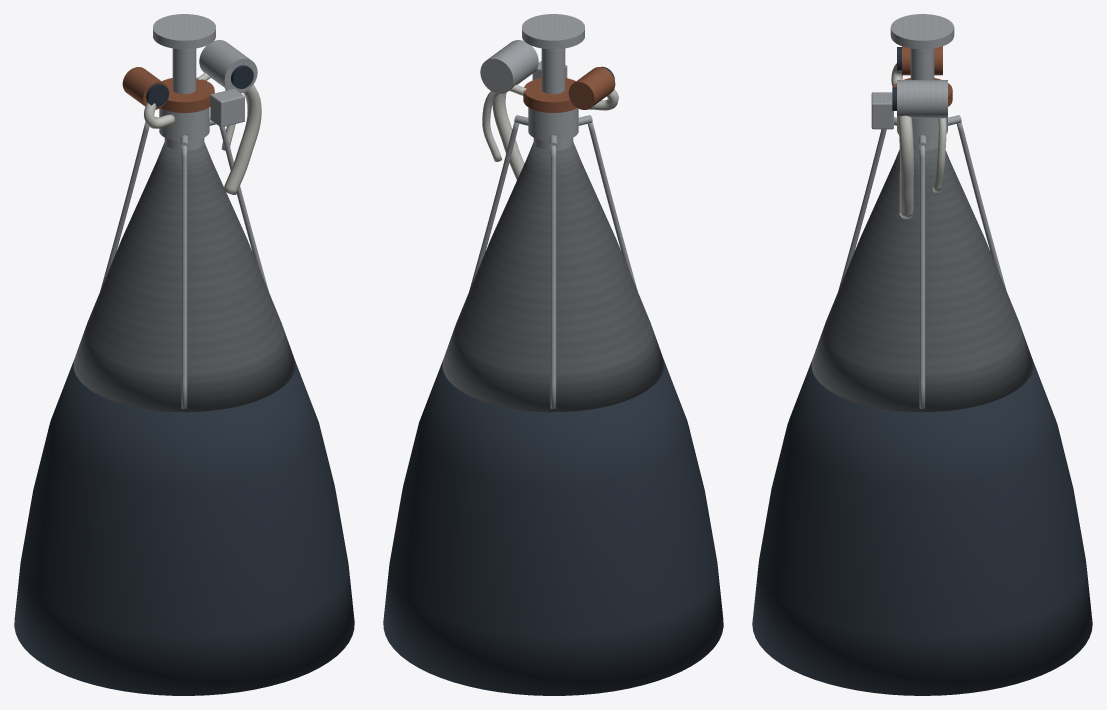
3 views of the same model, side by side, from view 1: azimuth 30°, elevation 25°; view 2: azimuth 150°, elevation 25°; view 3: azimuth 270°, elevation 25° (orthographic).
Parts seen in each view (by area): view 1: Carbon_Extension, Regenerative_Nozzle, Mount_Flange.002, Extension_Actuator.002, Fuel_Turbopump, Hydrogen_Feed, Combustion_Chamber, Injector_Head.002, Valve_Module, Gimbal_Stem.002, Oxidizer_Pump, Extension_Actuator.001 (+1 smaller); view 2: Carbon_Extension, Regenerative_Nozzle, Fuel_Turbopump, Mount_Flange.002, Extension_Actuator.001, Combustion_Chamber, Oxidizer_Pump, Injector_Head.002, Gimbal_Stem.002, Hydrogen_Feed, Extension_Actuator, Extension_Actuator.002 (+1 smaller); view 3: Carbon_Extension, Regenerative_Nozzle, Fuel_Turbopump, Mount_Flange.002, Extension_Actuator, Hydrogen_Feed, Extension_Actuator.001, Extension_Actuator.002, Valve_Module, Gimbal_Stem.002, Cooling_Return.004, Combustion_Chamber.
Part boxes in pixels (left/top/right/bottom): Carbon_Extension: left=14, top=359, right=354, bottom=695; Regenerative_Nozzle: left=73, top=142, right=295, bottom=412; Mount_Flange.002: left=153, top=14, right=215, bottom=49; Extension_Actuator.002: left=181, top=145, right=187, bottom=408; Fuel_Turbopump: left=199, top=40, right=257, bottom=93; Hydrogen_Feed: left=224, top=84, right=261, bottom=194; Combustion_Chamber: left=159, top=107, right=209, bottom=141; Injector_Head.002: left=161, top=78, right=214, bottom=112; Valve_Module: left=210, top=88, right=244, bottom=127; Gimbal_Stem.002: left=172, top=48, right=196, bottom=94; Oxidizer_Pump: left=122, top=67, right=169, bottom=109; Extension_Actuator.001: left=100, top=121, right=149, bottom=290; Carbon_Extension: left=383, top=359, right=723, bottom=695; Regenerative_Nozzle: left=442, top=142, right=664, bottom=412; Fuel_Turbopump: left=480, top=40, right=538, bottom=93; Mount_Flange.002: left=522, top=14, right=584, bottom=49; Extension_Actuator.001: left=550, top=145, right=556, bottom=408; Combustion_Chamber: left=528, top=107, right=578, bottom=141; Oxidizer_Pump: left=568, top=67, right=615, bottom=109; Injector_Head.002: left=523, top=78, right=576, bottom=112; Gimbal_Stem.002: left=541, top=48, right=565, bottom=94; Hydrogen_Feed: left=492, top=92, right=524, bottom=179; Extension_Actuator: left=469, top=121, right=519, bottom=290; Extension_Actuator.002: left=587, top=121, right=637, bottom=290; Carbon_Extension: left=752, top=359, right=1092, bottom=695; Regenerative_Nozzle: left=811, top=148, right=1033, bottom=412; Fuel_Turbopump: left=897, top=80, right=947, bottom=118; Mount_Flange.002: left=890, top=14, right=954, bottom=49; Extension_Actuator: left=919, top=145, right=925, bottom=408; Hydrogen_Feed: left=898, top=115, right=913, bottom=218; Extension_Actuator.001: left=956, top=121, right=1006, bottom=290; Extension_Actuator.002: left=838, top=129, right=886, bottom=290; Valve_Module: left=871, top=92, right=893, bottom=129; Gimbal_Stem.002: left=910, top=48, right=934, bottom=79; Cooling_Return.004: left=933, top=118, right=946, bottom=192; Combustion_Chamber: left=897, top=118, right=947, bottom=141.
Size of the model in its own units: 2.15 by 4.15 by 2.15.
Materials: 5 (4 with a texture image).
